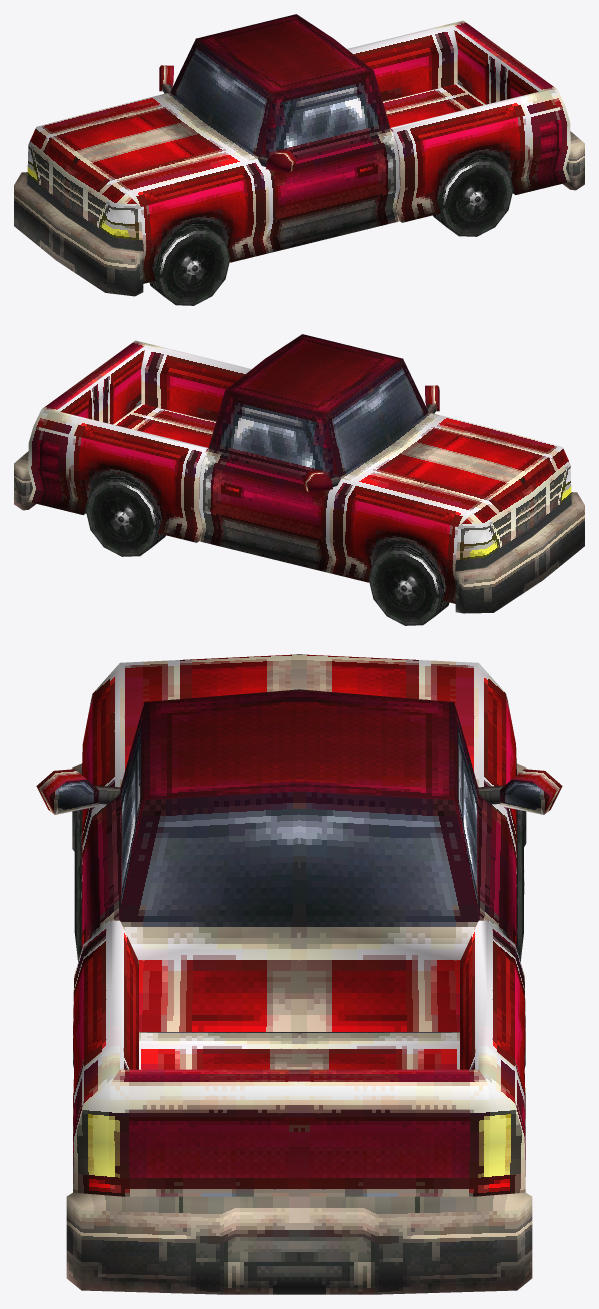
Rendered from prop_pickup_truck.glb.
3 renders of one model, top to bottom at view 1: azimuth 30°, elevation 25°; view 2: azimuth 150°, elevation 25°; view 3: azimuth 270°, elevation 25°, orthographic. The views are drawn at different scales.
Parts seen in each view (by area): view 1: Pickup_Truck; view 2: Pickup_Truck; view 3: Pickup_Truck.
Boxes of the visible parts, x1=… form: Pickup_Truck: x1=14, y1=14, x2=584, y2=305; Pickup_Truck: x1=14, y1=334, x2=584, y2=625; Pickup_Truck: x1=36, y1=654, x2=562, y2=1294.
Size of the model in its own units: 5.63 by 2.01 by 2.68.
Materials: 2 (2 with a texture image).
